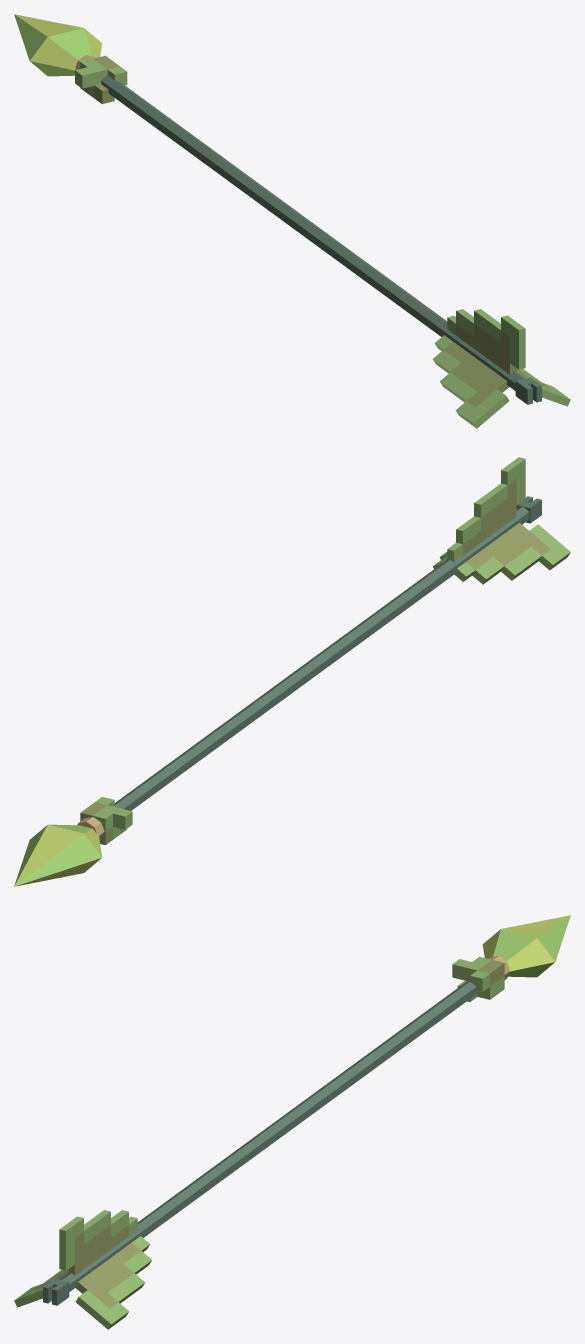
The model's file is moss_slime_arrow_roblox.glb.
3 views of the same model, one above another, from view 1: azimuth 30°, elevation 25°; view 2: azimuth 150°, elevation 25°; view 3: azimuth 330°, elevation 25° (orthographic).
Parts seen in each view (by area): view 1: Arrow; view 2: Arrow; view 3: Arrow.
Part boxes in pixels (x1,y1,x2,y2): Arrow: (14, 14, 570, 428); Arrow: (14, 457, 570, 886); Arrow: (14, 915, 570, 1329).
Size of the model in its own units: 0.201 by 0.1741 by 1.86.
